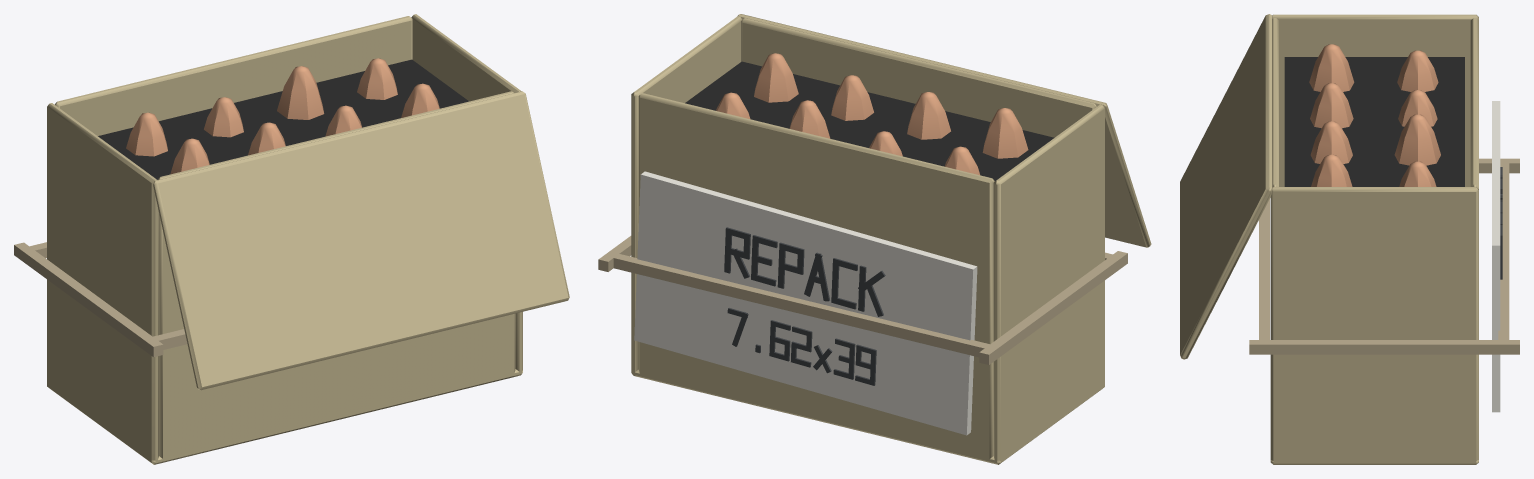
File: ammo_762x39_repack.glb
3 views of the same model, side by side, from view 1: azimuth 30°, elevation 25°; view 2: azimuth 150°, elevation 25°; view 3: azimuth 270°, elevation 25° (orthographic). The views are drawn at different scales.
Visible parts, largest first — view 1: body; view 2: body; view 3: body.
Part boxes in pixels (x1,y1,x2,y2): body: (14, 14, 569, 464); body: (598, 14, 1151, 464); body: (1180, 14, 1519, 464).
Size of the model in its own units: 0.0634 by 0.0448 by 0.049.
